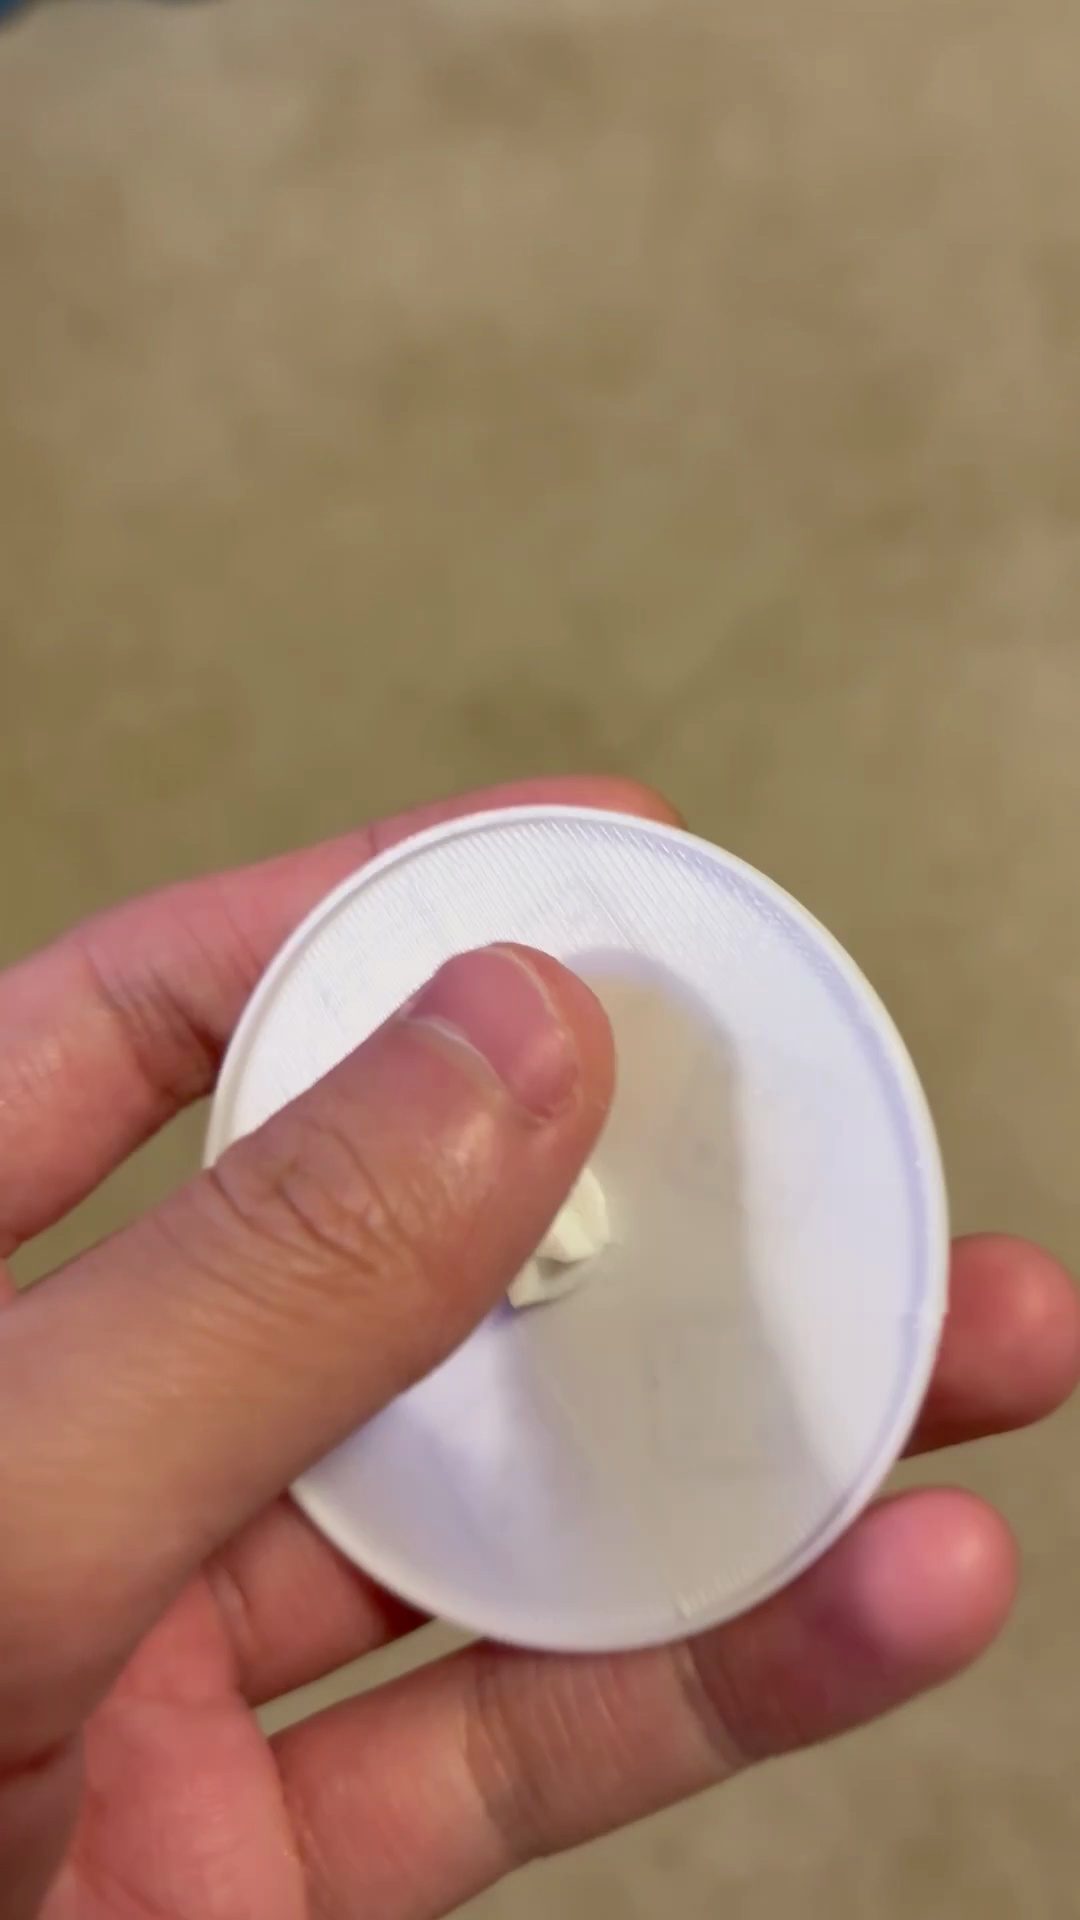Part1: (204, 806, 947, 1652)
